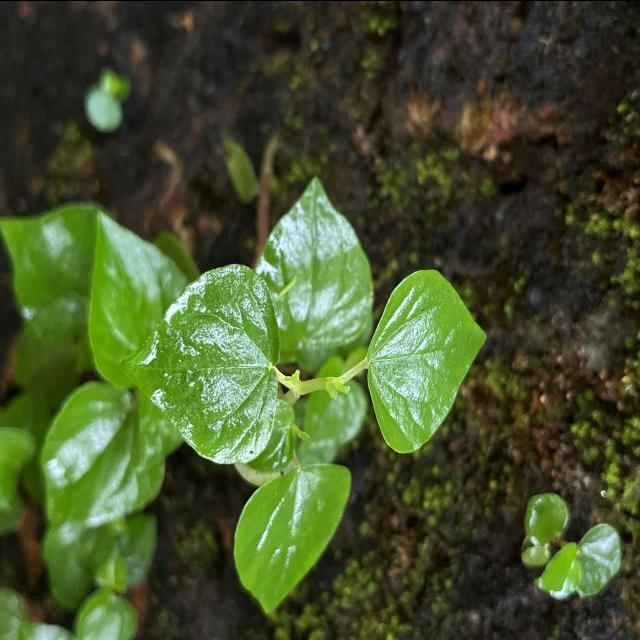Peperomia pellucida: (118, 259, 284, 467), (361, 266, 489, 457)
